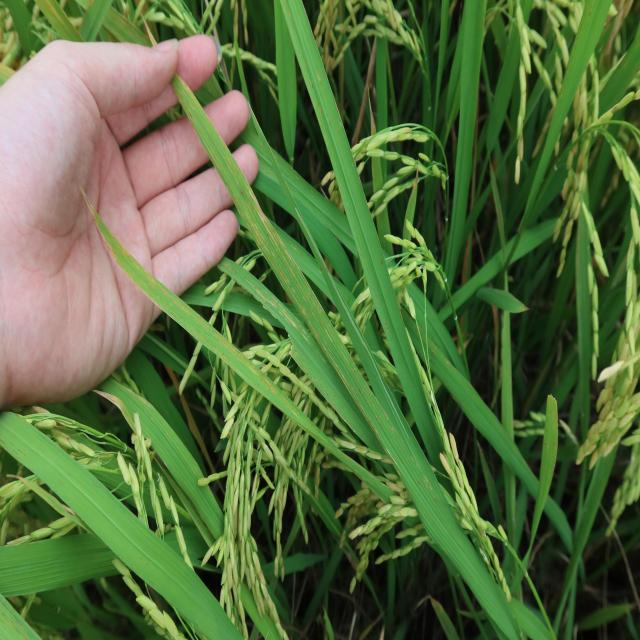Dom soc vi khuan: (249, 185, 293, 260), (265, 297, 297, 329), (248, 210, 269, 253)
